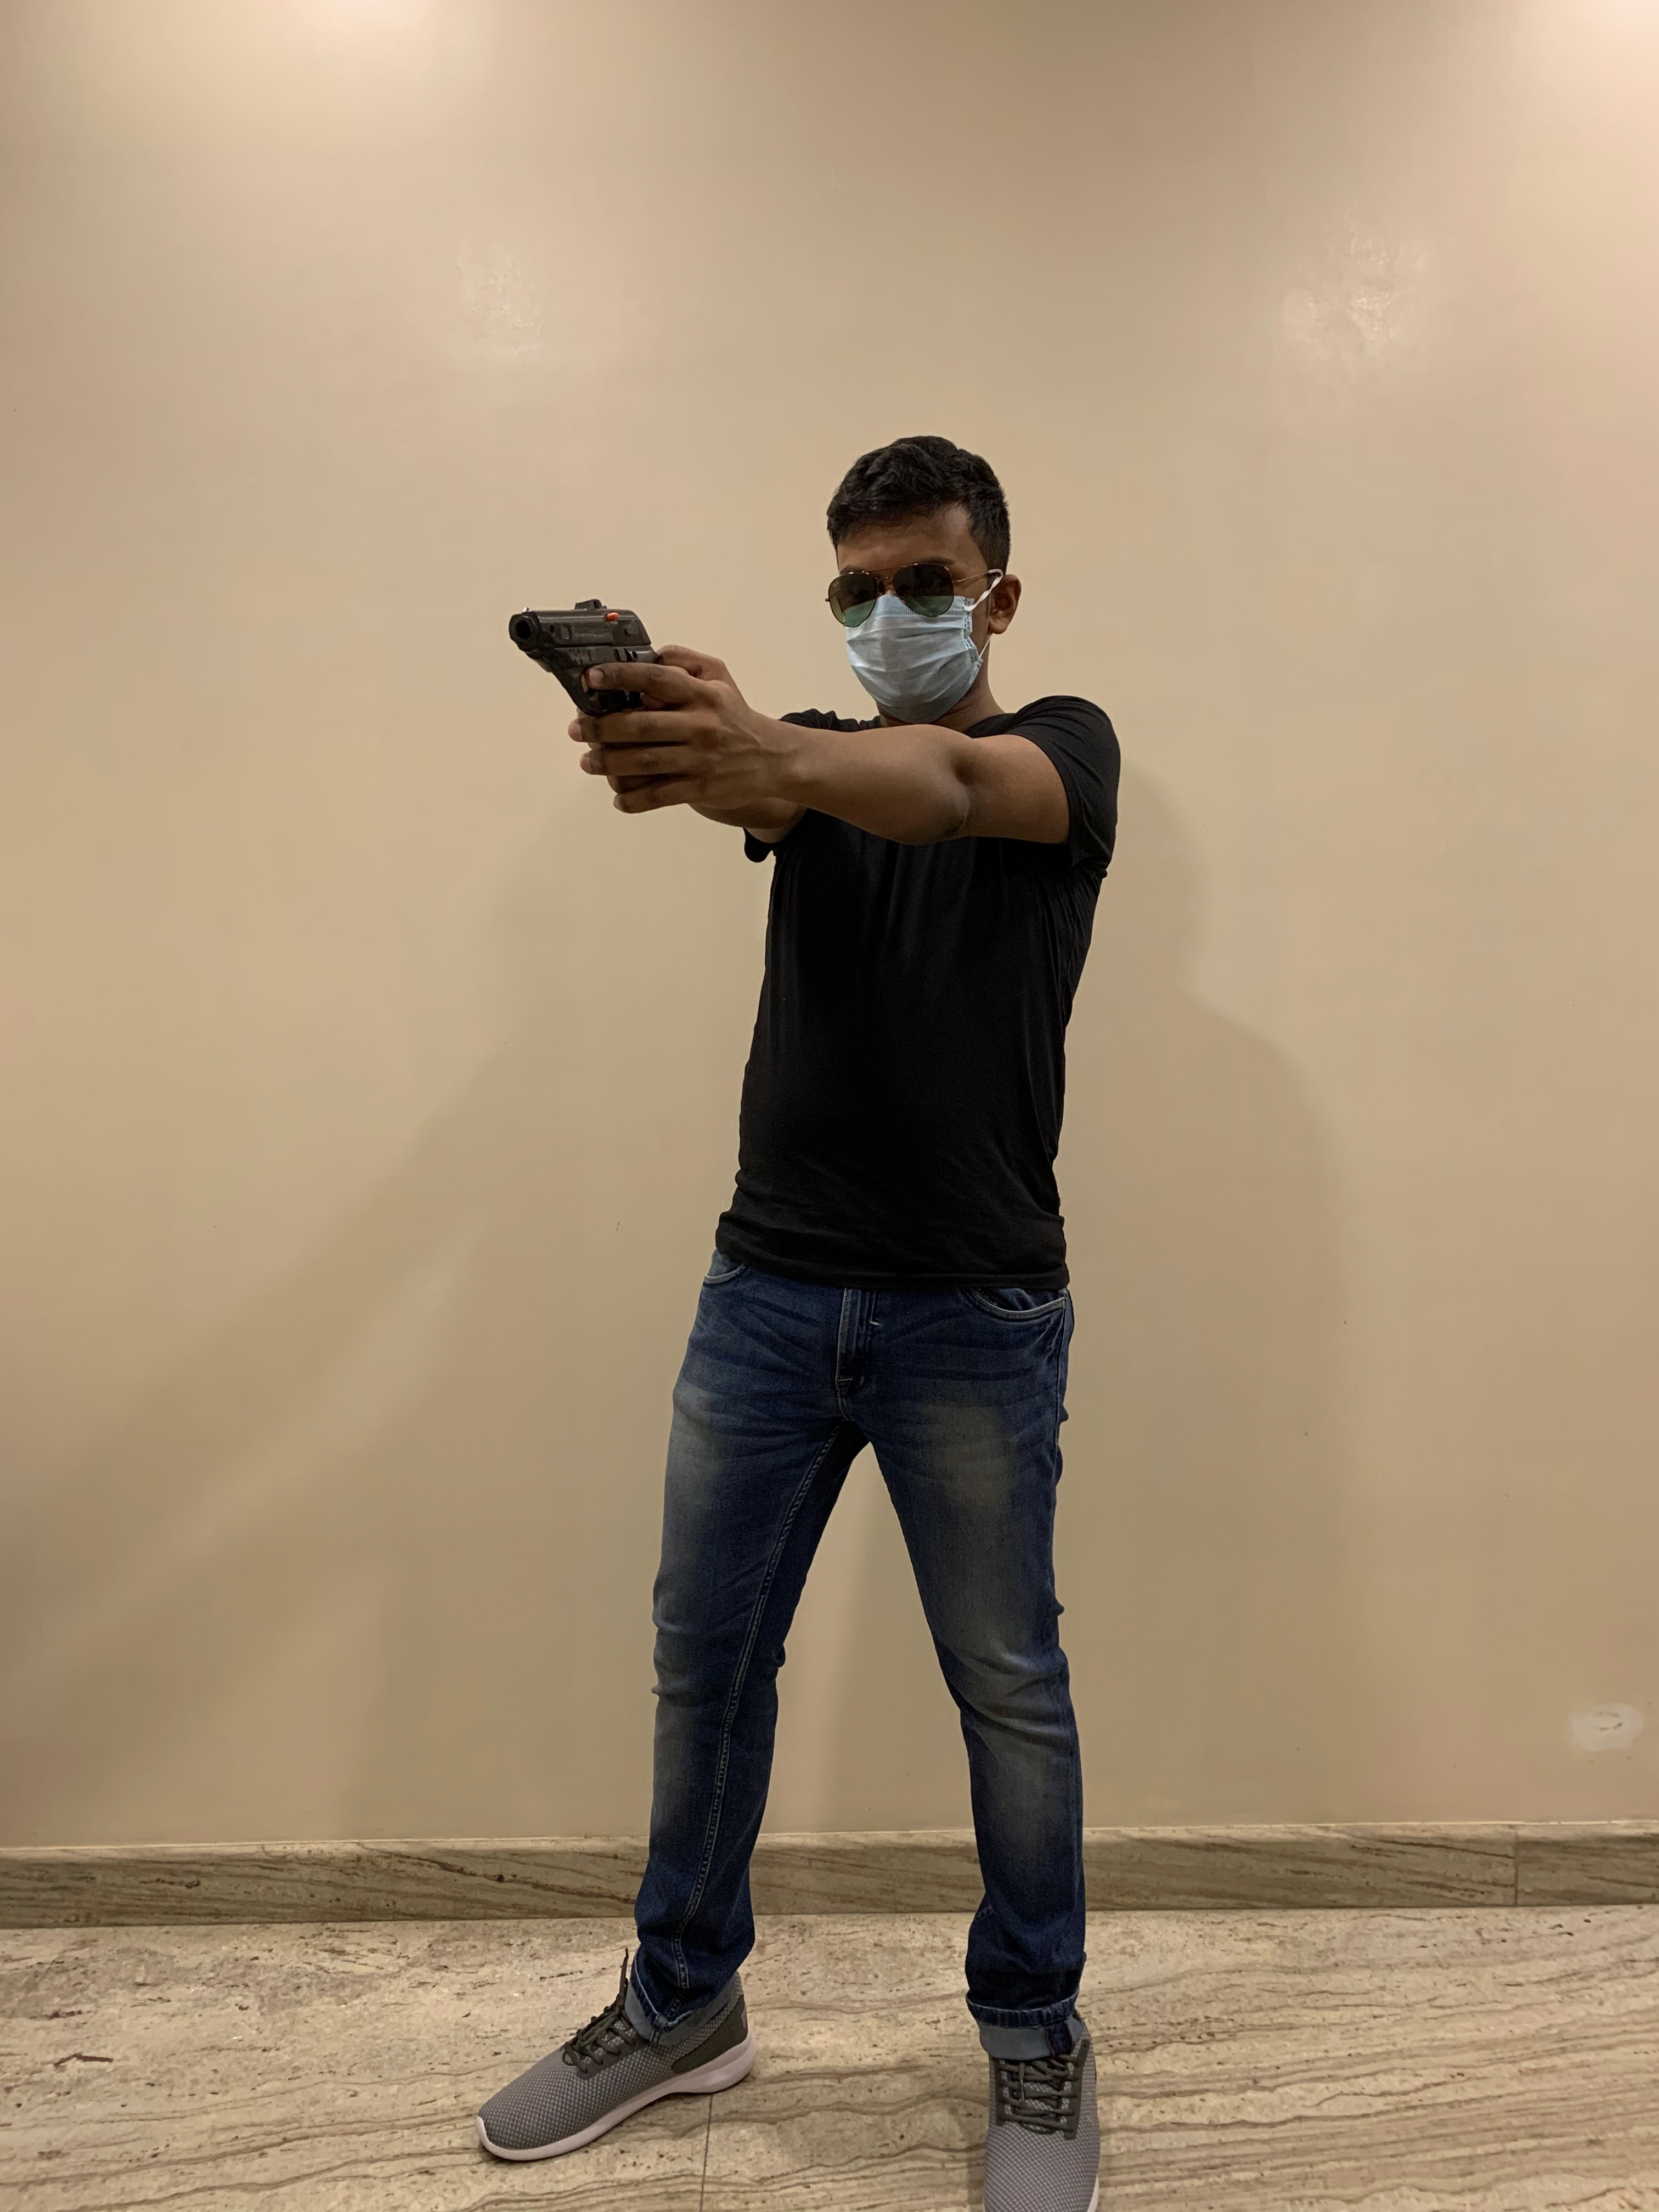gun: (500, 590, 674, 719)
